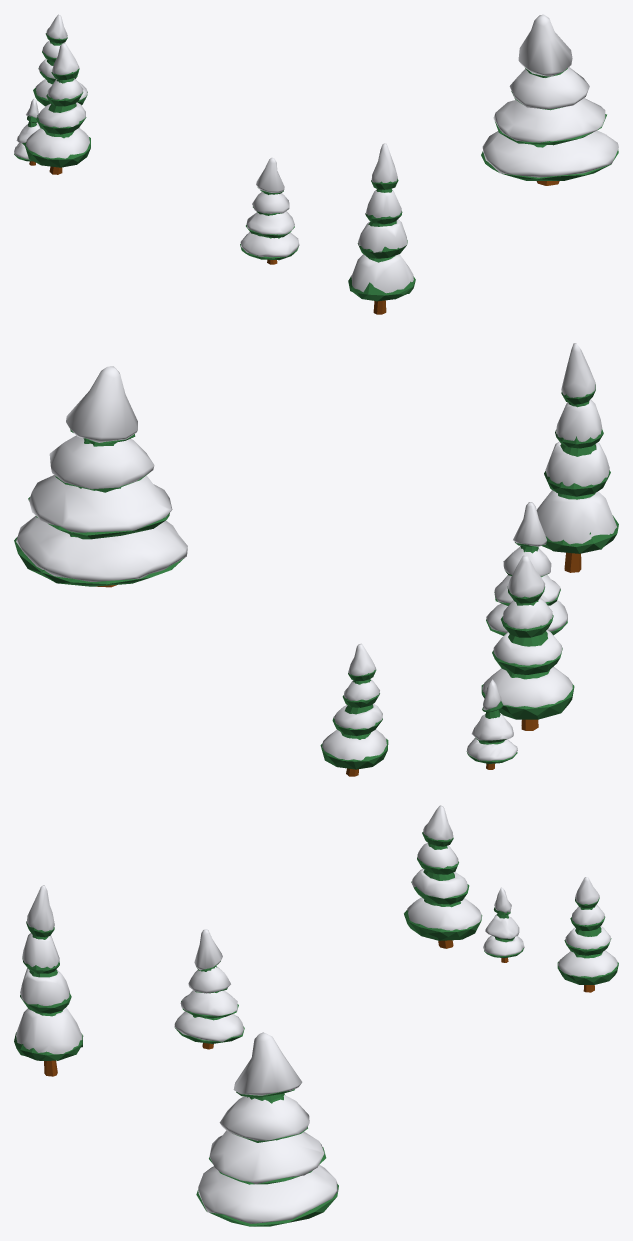
Rendered from trees.fbx.
The picture shows the model from 3 angles, top to bottom: view 1: azimuth 30°, elevation 25°; view 2: azimuth 150°, elevation 25°; view 3: azimuth 270°, elevation 25°; orthographic projection. The views are drawn at different scales.
Visible parts, largest first — view 1: pine.031, pine.036, pine.006, pine.003, pine.005, pine.002; view 2: pine.031, pine.036, pine.006, pine.005, pine.003, pine.002; view 3: pine.031, pine.036, pine.006, pine.003, pine.005, pine.002.
Part boxes in pixels (box(x1,y1,x2,y2)): pine.031: box(481, 14, 618, 185); pine.036: box(348, 143, 415, 314); pine.006: box(24, 43, 90, 174); pine.003: box(240, 157, 299, 264); pine.005: box(33, 14, 87, 106); pine.002: box(14, 98, 40, 165); pine.031: box(14, 366, 187, 587); pine.036: box(536, 343, 618, 572); pine.006: box(481, 555, 574, 730); pine.005: box(320, 643, 388, 776); pine.003: box(486, 502, 567, 635); pine.002: box(466, 679, 517, 769); pine.031: box(196, 1032, 338, 1226); pine.036: box(14, 885, 83, 1076); pine.006: box(404, 805, 482, 948); pine.003: box(174, 929, 244, 1049); pine.005: box(557, 877, 618, 992); pine.002: box(483, 887, 524, 962).
Size of the model in its own units: 718 by 243 by 679.
